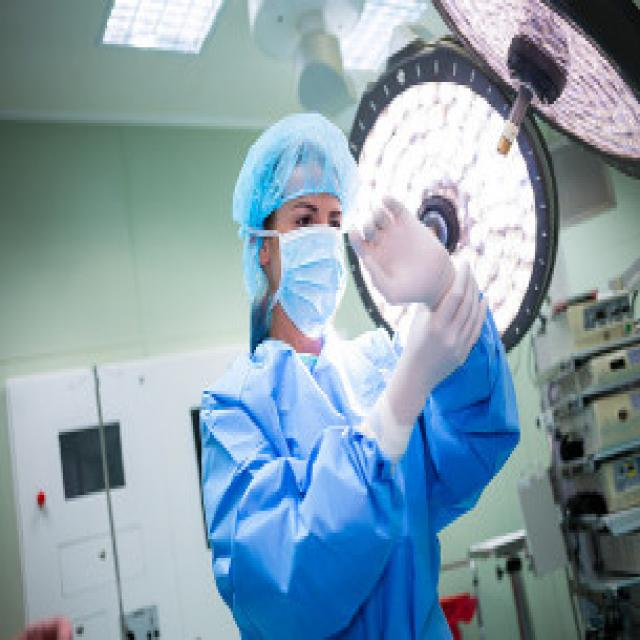mask: (275, 182, 346, 330)
